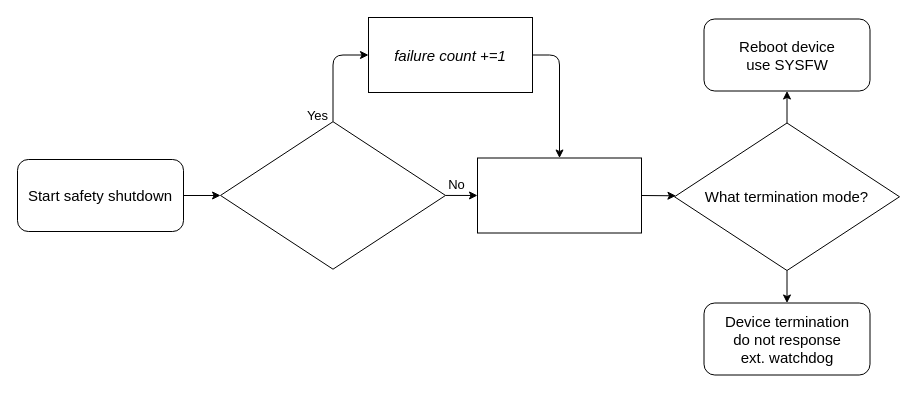
The diagram is 917 pixels wide and 393 high, and some of its shapes have lost their labels. The shapes that lost their labels are listed below. From the top down, each one's centre as x and y in pixels, then its label:
At (333,195): "Is failure count != 0 ? image is new software".
At (559,195): "set boot info (failure info) code".
